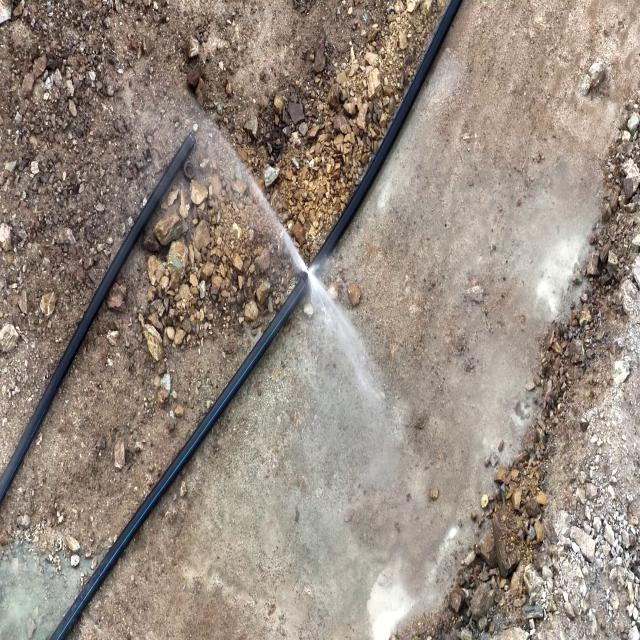leak: (226, 142, 373, 362)
